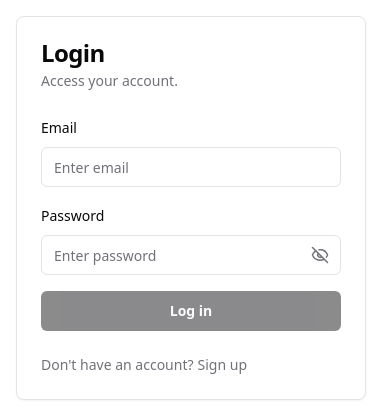
Test: LoginForm › should enable the login button when the user enters valid email and password
The width and height of the screenshot is (383, 417).
Note: fill in the form
Type "test@gmail.com" into the field labelled "Email".
click(191, 167); type("test@gmail.com")  # box top-left (41, 147), bottom-right (341, 187)
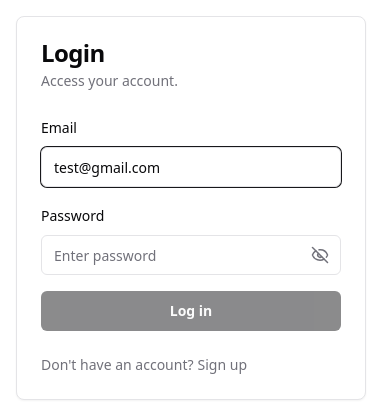
Type "test22" into the password field labelled "Password".
click(191, 255); type("test22")  # box top-left (41, 235), bottom-right (341, 275)
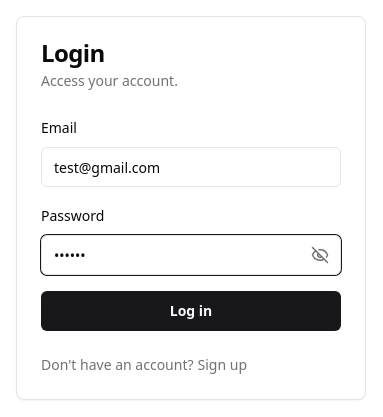
Expected: the button "Log in" is enabled, top-left (41, 291), bottom-right (341, 331)
